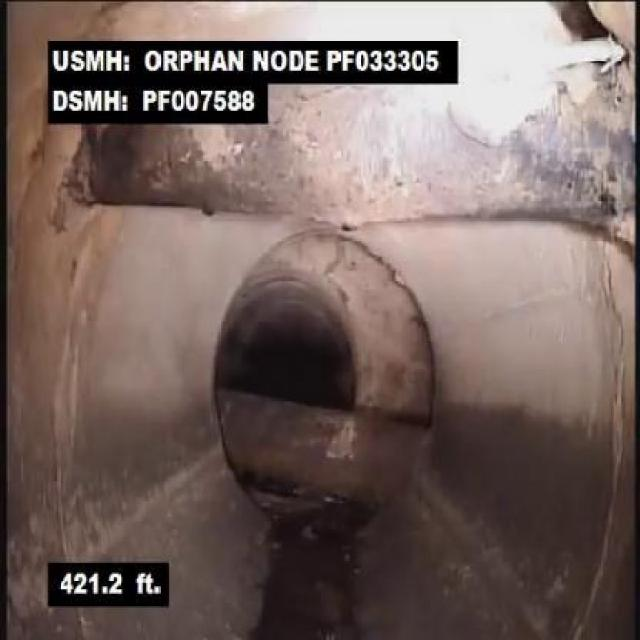Utility intrusion: (81, 32, 624, 248), (215, 377, 474, 528)
